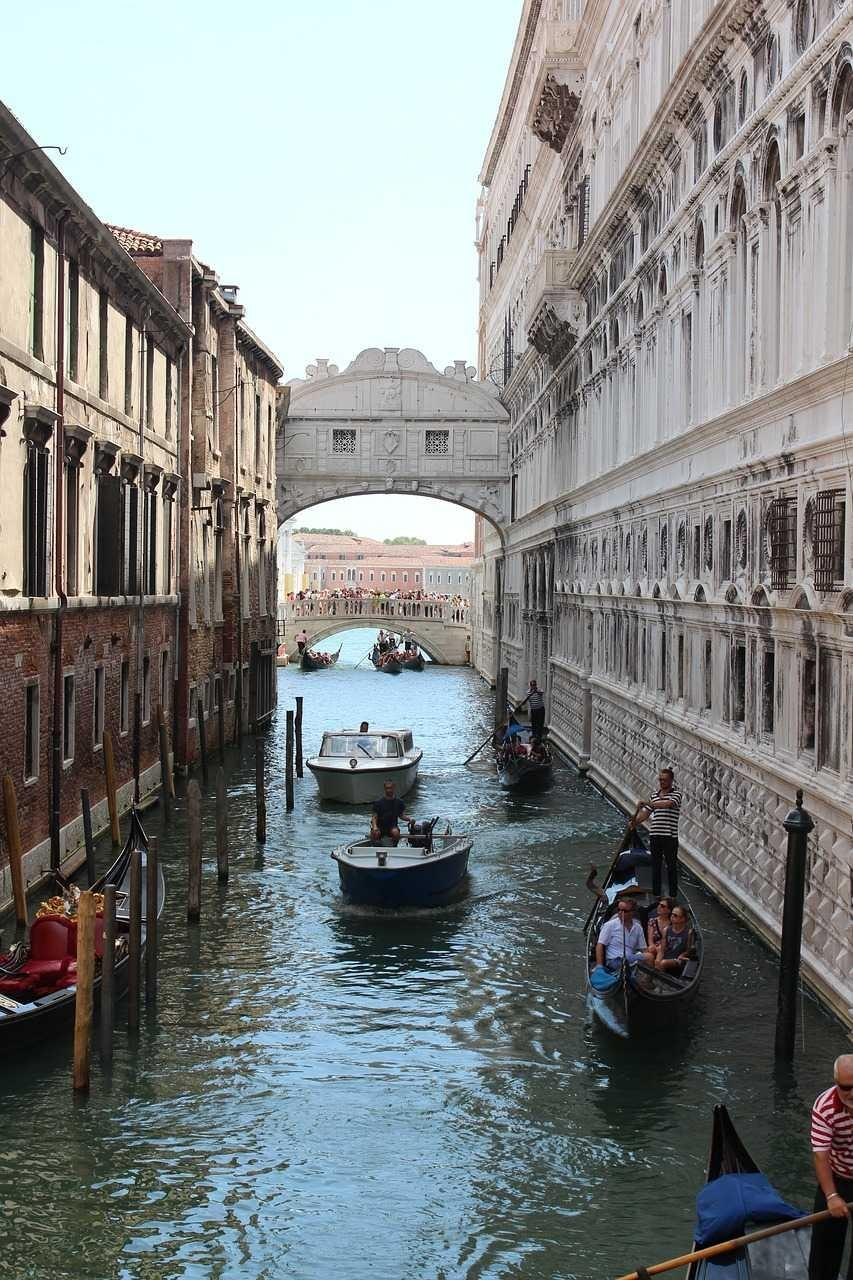kayak: (617, 1104, 832, 1279), (0, 830, 163, 1057), (582, 842, 705, 1043), (1, 904, 93, 1056), (330, 825, 476, 912), (306, 722, 423, 804), (496, 734, 554, 792), (370, 639, 425, 674), (300, 648, 339, 671)
